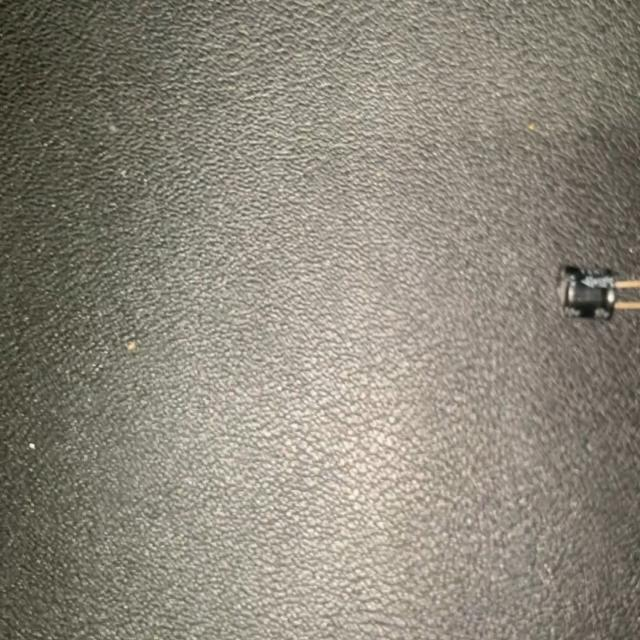capacitor: (551, 263, 640, 322)
